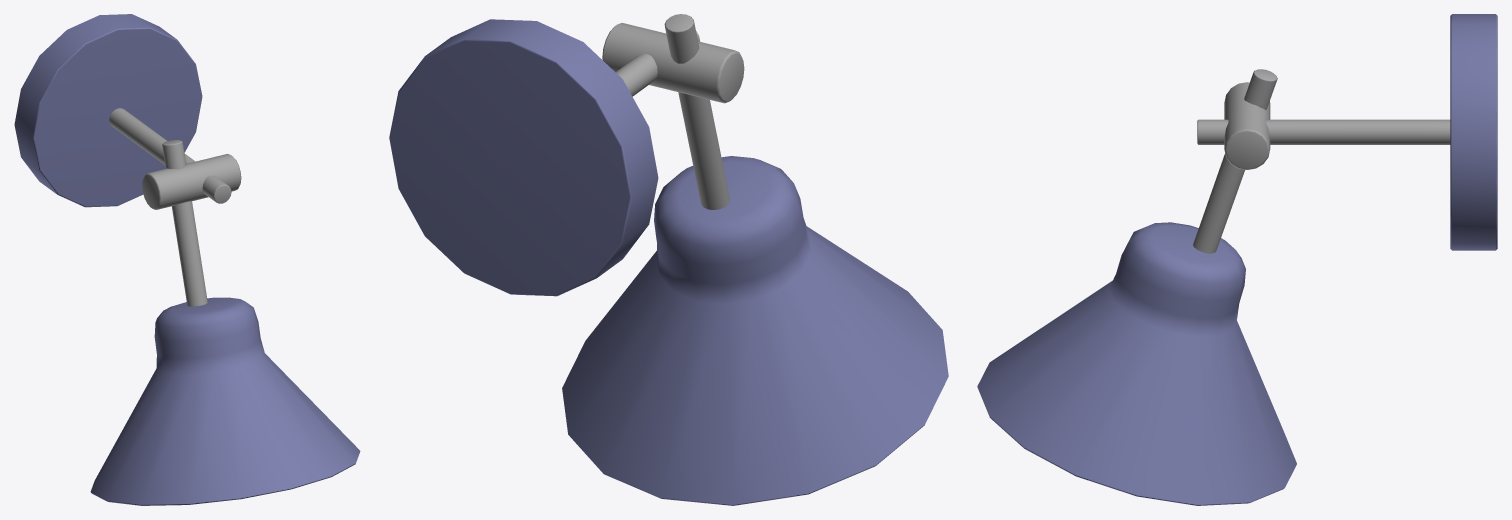
File: Lamp_3.glb
3 views of the same model, side by side, from view 1: azimuth 30°, elevation 25°; view 2: azimuth 150°, elevation 25°; view 3: azimuth 270°, elevation 25° (orthographic). The views are drawn at different scales.
Visible parts, largest first — view 1: Lamp_8; view 2: Lamp_8; view 3: Lamp_8.
Boxes of the visible parts, x1=… form: Lamp_8: x1=14, y1=14, x2=360, y2=505; Lamp_8: x1=389, y1=14, x2=948, y2=505; Lamp_8: x1=977, y1=14, x2=1497, y2=505.
Size of the model in its own units: 0.4468 by 0.6755 by 0.702.
Materials: 2 (1 with a texture image).
